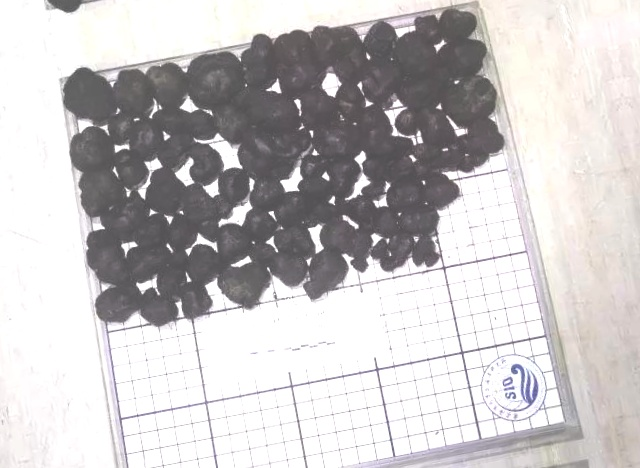halobolite: (58, 61, 123, 129), (239, 30, 292, 88), (269, 122, 344, 162), (218, 260, 276, 308), (324, 31, 367, 95), (78, 168, 131, 213), (402, 175, 465, 212), (288, 23, 327, 81), (94, 233, 133, 289), (373, 32, 411, 89), (304, 252, 350, 296), (291, 83, 340, 123), (451, 77, 495, 121), (120, 121, 161, 168), (261, 240, 303, 285), (94, 284, 139, 326), (459, 117, 506, 156), (346, 118, 390, 159), (182, 134, 220, 181), (388, 158, 439, 193), (213, 156, 248, 207), (157, 253, 196, 298), (119, 79, 157, 125), (139, 177, 180, 219), (256, 81, 296, 124), (198, 45, 237, 89), (439, 39, 478, 83), (398, 73, 441, 111), (337, 87, 376, 126), (260, 185, 302, 219), (225, 114, 258, 157), (137, 291, 172, 331), (353, 153, 385, 196), (397, 138, 442, 167), (204, 77, 239, 114), (406, 34, 440, 72), (390, 113, 420, 156), (294, 179, 331, 213), (154, 110, 188, 147), (441, 5, 473, 44), (124, 228, 163, 260), (177, 85, 207, 126), (335, 211, 370, 246), (274, 161, 315, 190), (206, 209, 238, 246), (291, 210, 329, 241), (238, 195, 268, 233), (367, 24, 396, 63), (199, 106, 233, 138), (414, 242, 447, 274), (251, 145, 283, 178), (154, 73, 182, 109), (360, 196, 393, 226), (324, 185, 359, 213), (194, 179, 222, 214), (373, 89, 401, 123), (408, 209, 443, 236), (323, 166, 357, 193), (188, 282, 215, 316), (231, 86, 260, 117), (262, 217, 293, 244), (395, 235, 423, 263), (363, 224, 388, 250), (328, 146, 353, 171), (380, 180, 406, 204), (241, 167, 264, 193), (425, 121, 449, 145), (376, 235, 399, 258), (355, 247, 380, 267), (385, 254, 412, 272)
